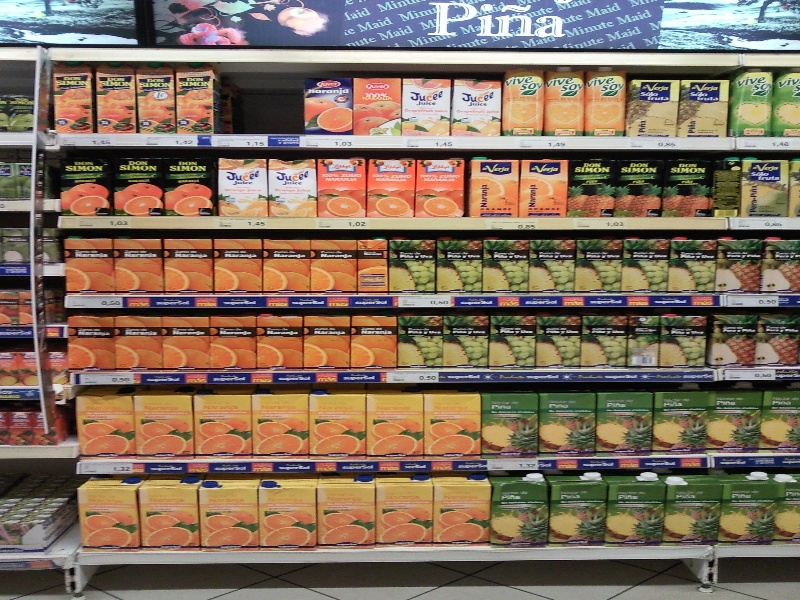juice: (72, 471, 147, 554), (603, 469, 668, 551), (313, 474, 383, 548), (490, 472, 556, 550), (141, 473, 206, 549), (258, 478, 322, 553), (198, 476, 259, 554), (372, 472, 437, 545), (546, 472, 611, 545), (661, 472, 725, 545), (720, 471, 779, 546), (310, 389, 372, 459), (365, 388, 427, 458), (72, 389, 137, 455), (135, 391, 196, 460), (253, 391, 314, 456), (426, 391, 485, 458), (48, 61, 99, 134), (196, 393, 253, 458), (174, 62, 227, 131), (60, 153, 114, 218), (110, 155, 166, 216), (165, 154, 220, 215), (95, 64, 142, 135), (543, 64, 588, 138), (520, 156, 572, 220), (585, 67, 631, 139), (258, 234, 312, 294), (305, 235, 361, 292), (212, 234, 266, 293), (469, 155, 519, 217), (706, 308, 757, 367), (713, 234, 764, 291), (138, 64, 179, 134), (301, 314, 354, 368), (256, 311, 305, 369), (65, 316, 117, 370), (162, 311, 210, 369), (751, 310, 800, 366), (114, 316, 166, 368), (350, 312, 399, 367), (506, 67, 544, 137), (208, 316, 258, 368), (759, 239, 800, 295)
